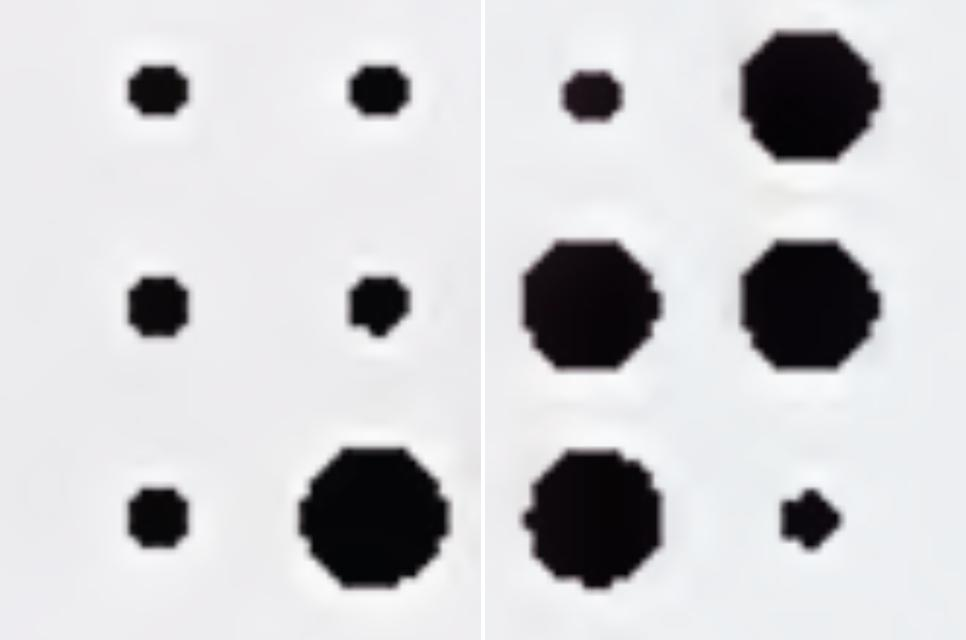T: (526, 30, 882, 590)
capital: (125, 63, 450, 589)
